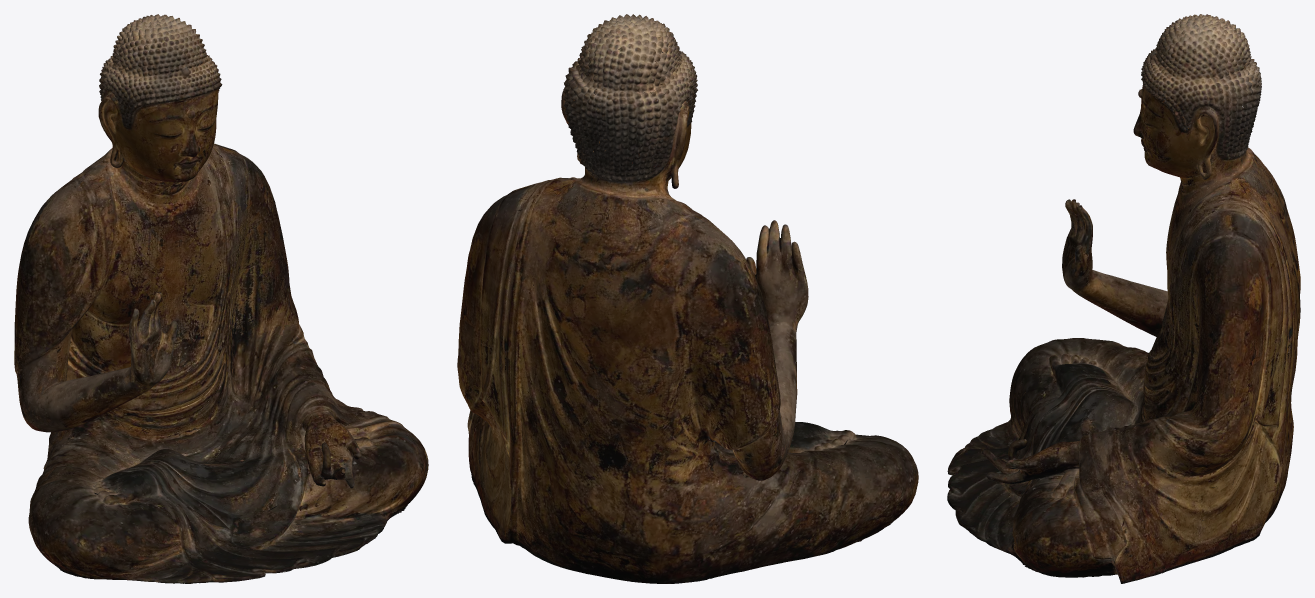
File: shakyamuni.glb
The picture shows the model from 3 angles, left to right: view 1: azimuth 30°, elevation 25°; view 2: azimuth 150°, elevation 25°; view 3: azimuth 270°, elevation 25°; orthographic projection. The views are drawn at different scales.
Parts seen in each view (by area): view 1: Object_4, Object_5; view 2: Object_4, Object_5; view 3: Object_4, Object_5.
Boxes of the visible parts, x1=… form: Object_4: x1=14, y1=20, x2=428, y2=583; Object_5: x1=38, y1=14, x2=387, y2=582; Object_4: x1=457, y1=15, x2=918, y2=583; Object_5: x1=457, y1=14, x2=879, y2=568; Object_4: x1=947, y1=14, x2=1300, y2=583; Object_5: x1=948, y1=14, x2=1300, y2=552.
Bounding box in the file's own units: 0.8436 × 1 × 0.674.
1 material, 1 textured.
